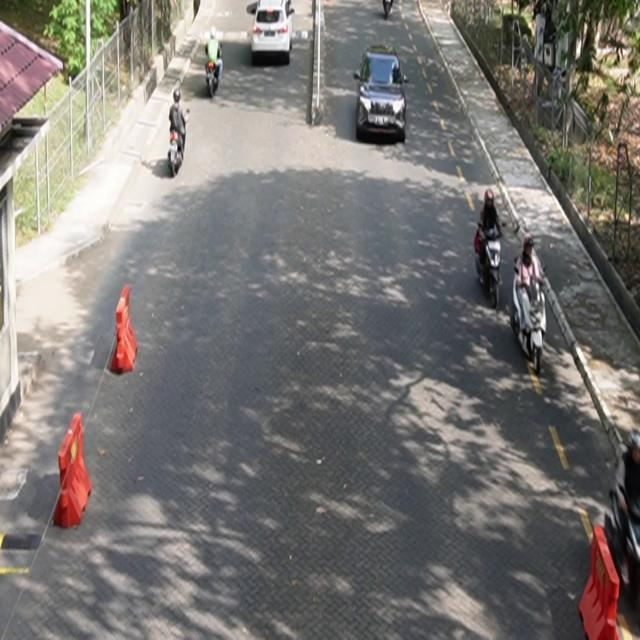car: (354, 45, 410, 143), (252, 1, 296, 65)
